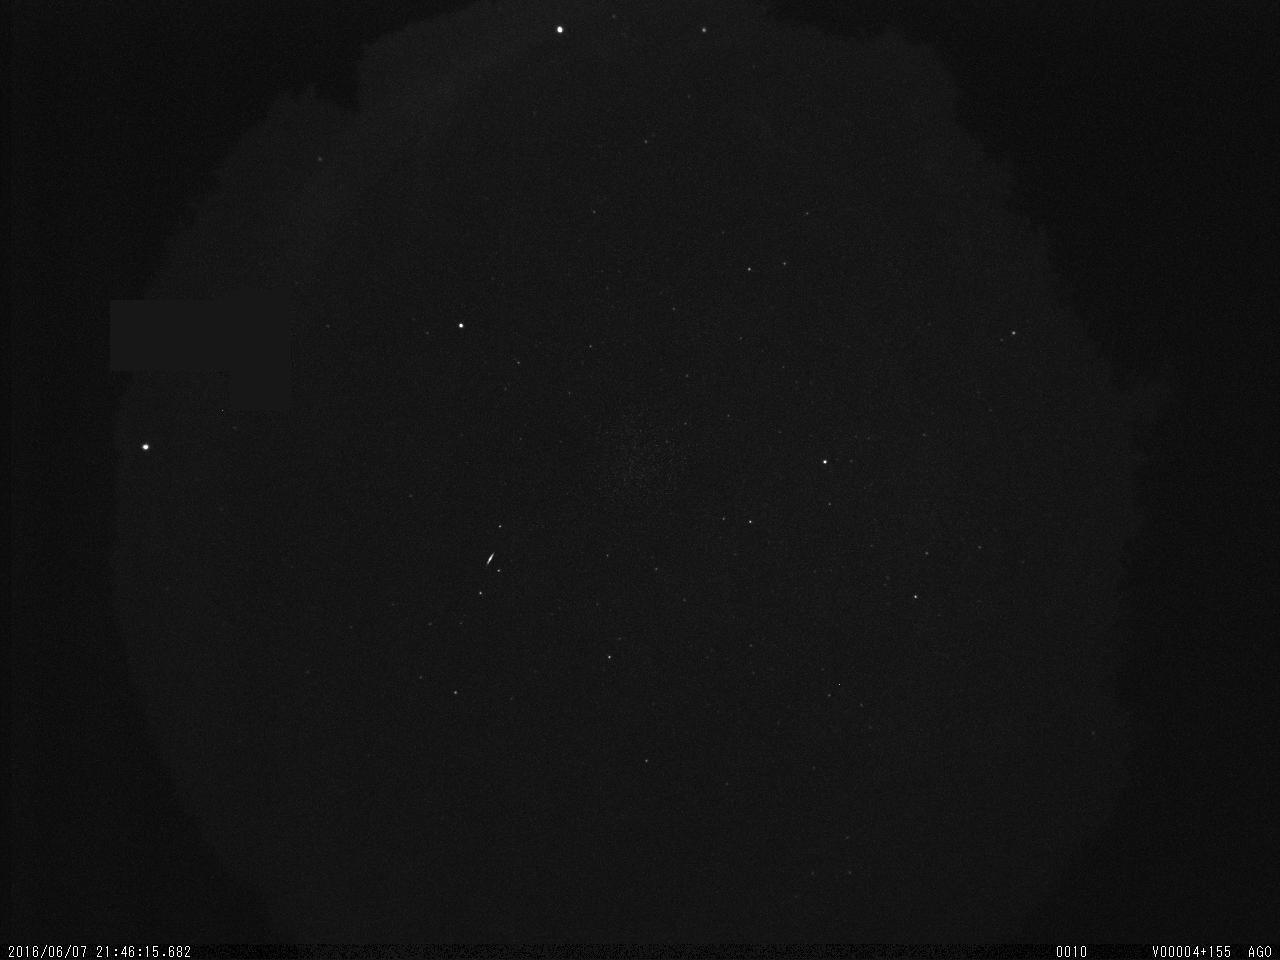meteor: (476, 548, 511, 573)
